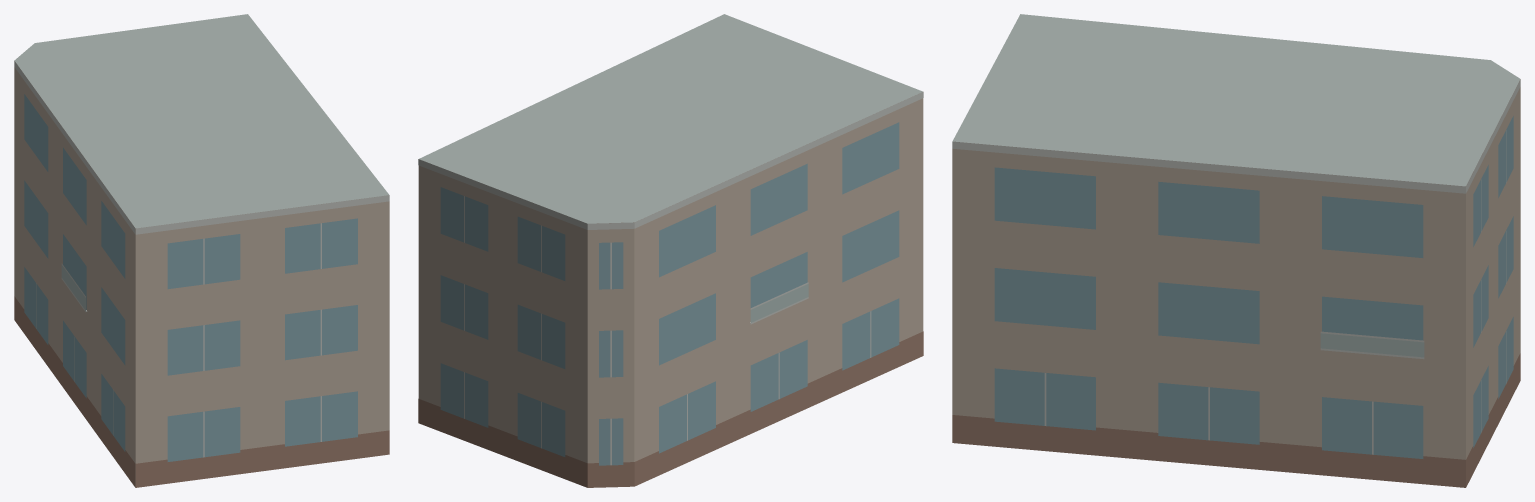
Rendered from survey-upis-32894246.glb.
3 renders of one model, left to right at view 1: azimuth 30°, elevation 25°; view 2: azimuth 150°, elevation 25°; view 3: azimuth 270°, elevation 25°, orthographic. The views are drawn at different scales.
Parts seen in each view (by area): view 1: survey-upis-32894246.tmp; view 2: survey-upis-32894246.tmp; view 3: survey-upis-32894246.tmp.
Part boxes in pixels (x1,y1,x2,y2): survey-upis-32894246.tmp: (14,14,389,487); survey-upis-32894246.tmp: (418,14,923,487); survey-upis-32894246.tmp: (952,14,1520,487).
Size of the model in its own units: 12.4 by 10.1 by 17.27.
